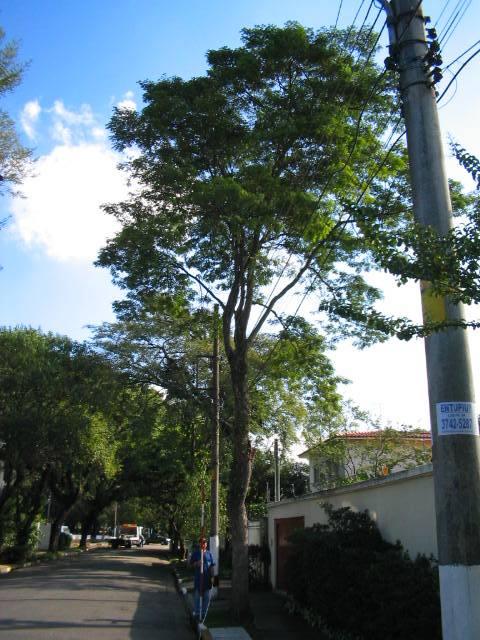crown: (99, 23, 468, 367)
stem: (224, 365, 262, 628)
stick: (194, 481, 208, 625)
tree: (97, 23, 469, 631)
